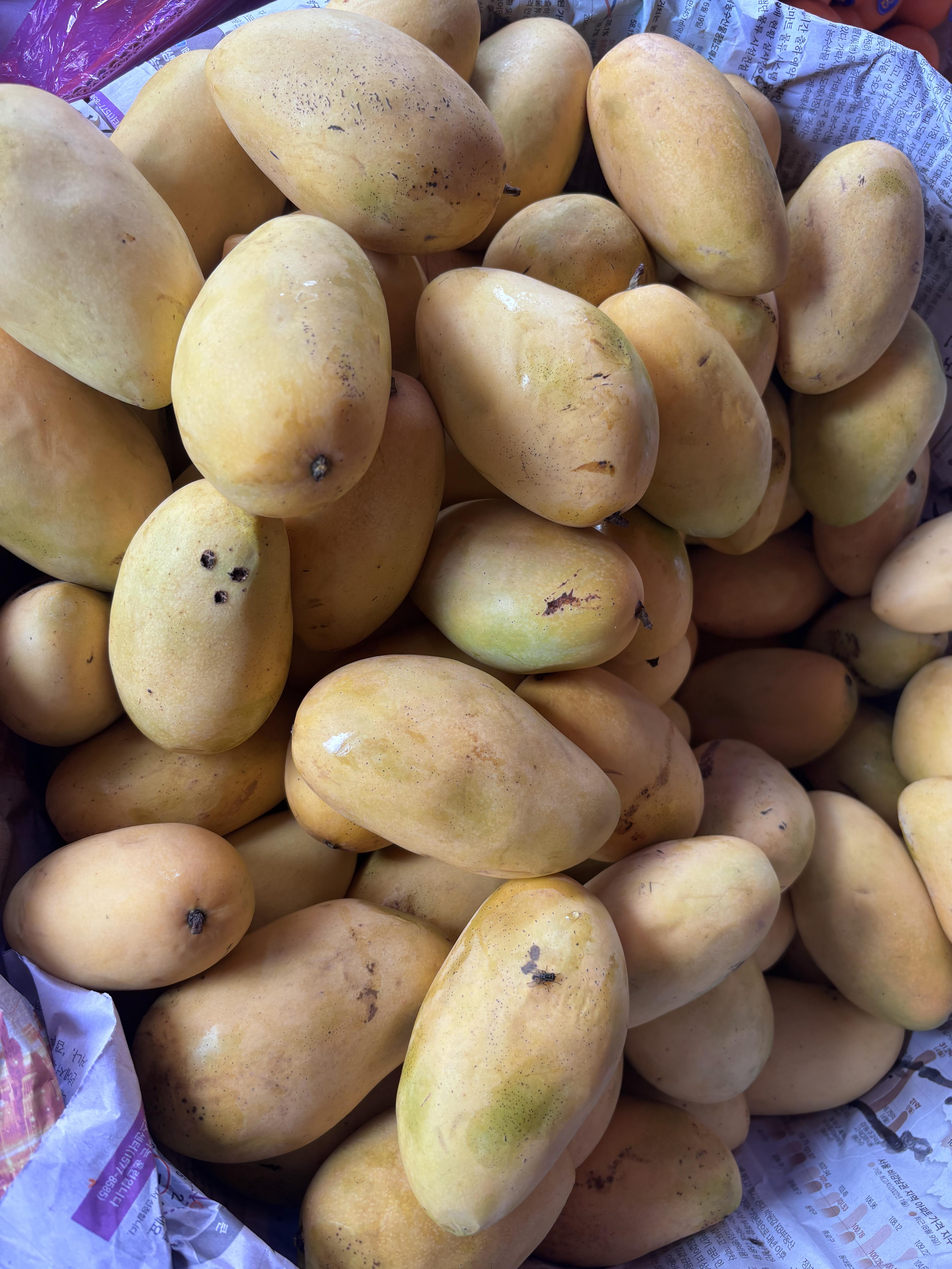mango: (396, 875, 628, 1235), (206, 10, 506, 255), (292, 655, 620, 878), (171, 214, 391, 518), (416, 267, 658, 527), (587, 34, 789, 295), (4, 823, 254, 990)
occluded: (132, 898, 450, 1163), (0, 85, 204, 408), (109, 480, 292, 753), (0, 333, 172, 592), (285, 373, 444, 653), (600, 285, 772, 538), (301, 1110, 574, 1269), (412, 499, 652, 674), (112, 49, 285, 277), (46, 689, 300, 842), (791, 791, 952, 1030), (775, 140, 924, 395), (585, 835, 780, 1027), (516, 667, 703, 864), (537, 1094, 741, 1266), (790, 310, 946, 527), (470, 18, 592, 248), (746, 977, 904, 1115), (625, 958, 774, 1104), (681, 647, 858, 767), (0, 581, 123, 746), (483, 193, 657, 307), (694, 739, 815, 891), (813, 449, 930, 597), (690, 525, 835, 639), (226, 810, 357, 932), (595, 507, 693, 668), (699, 384, 790, 555), (347, 845, 502, 944), (805, 597, 948, 696), (801, 704, 909, 832), (325, 0, 480, 81), (675, 277, 779, 395), (284, 741, 389, 852), (622, 1065, 750, 1150), (871, 513, 952, 634), (898, 777, 952, 942), (365, 249, 427, 377), (892, 657, 952, 782), (600, 634, 692, 705), (568, 1058, 623, 1168), (724, 73, 781, 168), (753, 892, 796, 972), (419, 249, 484, 281), (773, 482, 806, 535), (660, 699, 691, 744), (952, 532, 952, 532)
